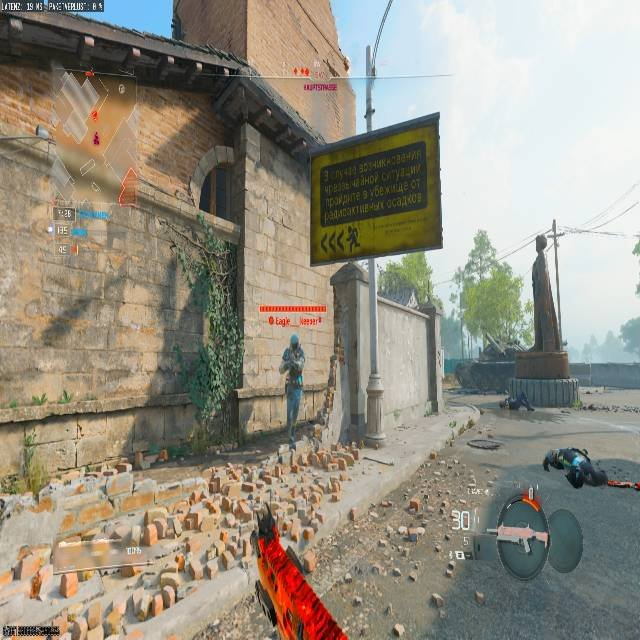head: (566, 467, 585, 488), (286, 333, 303, 353), (289, 333, 299, 347)
player: (280, 333, 305, 415)
